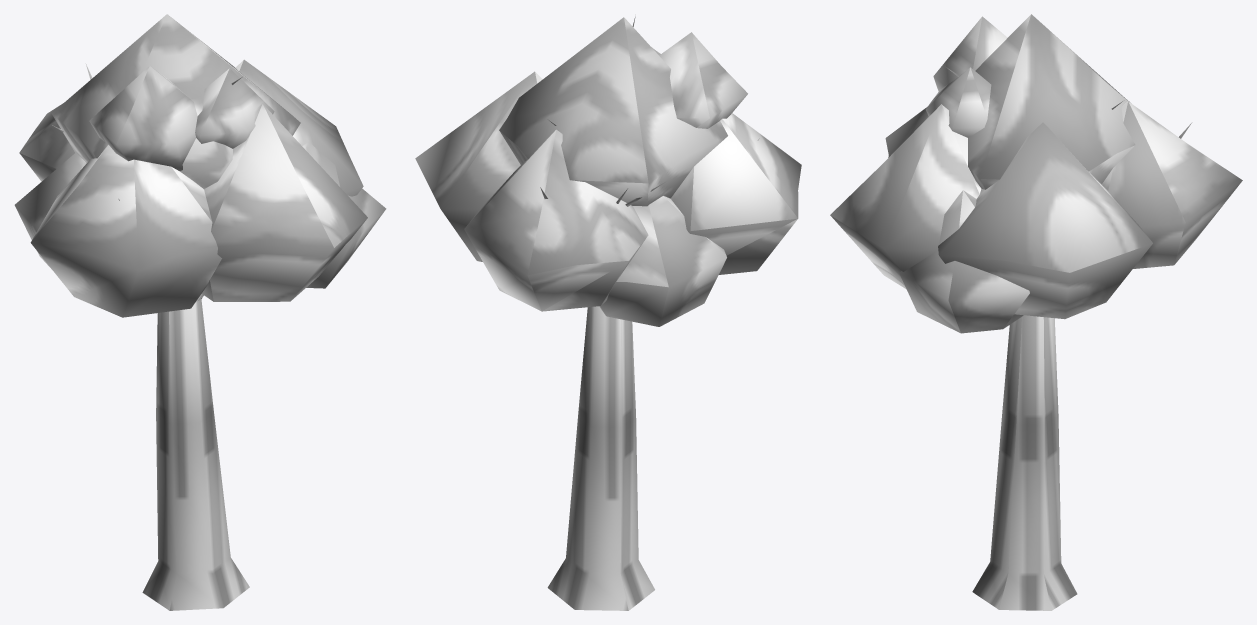
Rendered from tree_teak_1.obj.
3 renders of one model, left to right at view 1: azimuth 30°, elevation 25°; view 2: azimuth 150°, elevation 25°; view 3: azimuth 270°, elevation 25°, orthographic. The views are drawn at different scales.
Visible parts, largest first — view 1: source_component_035, source_component_032, source_component_000, source_component_036, source_component_037, source_component_033, source_component_038, source_component_030, source_component_031, source_component_034; view 2: source_component_036, source_component_034, source_component_000, source_component_035, source_component_031, source_component_033, source_component_037; view 3: source_component_033, source_component_000, source_component_036, source_component_032, source_component_034, source_component_030, source_component_038, source_component_037, source_component_035.
Boxes of the visible parts, box(x1,y1,x2,y2) form: source_component_035: box(30, 144, 221, 317); source_component_032: box(202, 103, 367, 301); source_component_000: box(142, 299, 249, 610); source_component_036: box(51, 14, 300, 188); source_component_037: box(89, 66, 197, 171); source_component_033: box(235, 59, 363, 196); source_component_038: box(195, 68, 274, 148); source_component_030: box(302, 142, 386, 288); source_component_031: box(14, 153, 86, 269); source_component_034: box(19, 103, 74, 181); source_component_036: box(499, 17, 727, 206); source_component_034: box(464, 129, 648, 311); source_component_000: box(547, 306, 654, 610); source_component_035: box(670, 113, 801, 274); source_component_031: box(599, 196, 726, 326); source_component_033: box(415, 71, 542, 261); source_component_037: box(659, 32, 747, 128); source_component_033: box(938, 122, 1152, 319); source_component_000: box(972, 315, 1077, 610); source_component_036: box(968, 14, 1135, 189); source_component_032: box(830, 104, 981, 289); source_component_034: box(1102, 101, 1242, 268); source_component_030: box(899, 190, 1029, 333); source_component_038: box(925, 67, 991, 137); source_component_037: box(933, 16, 1007, 91); source_component_035: box(885, 107, 928, 157).
Size of the model in its own units: 0.7078 by 1.14 by 0.7526.
